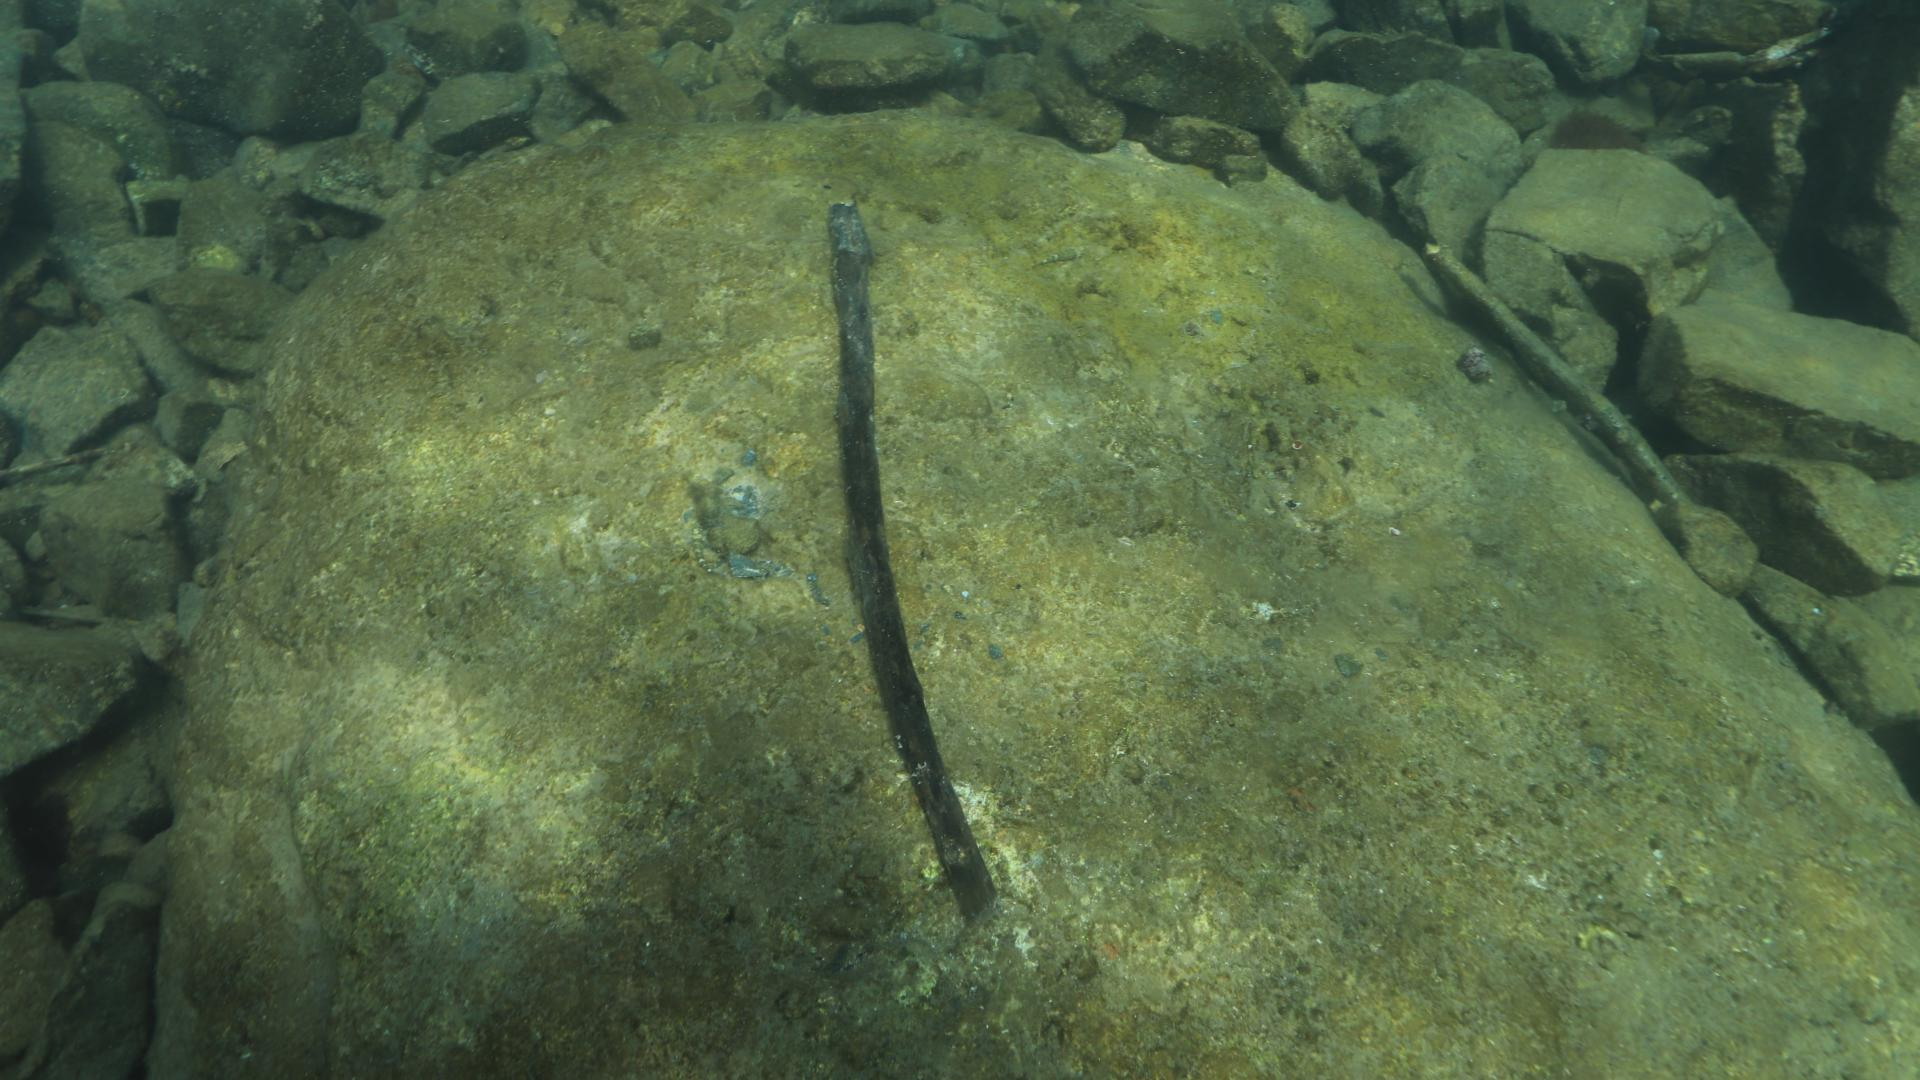wood: (825, 193, 998, 922), (1419, 239, 1695, 510)
